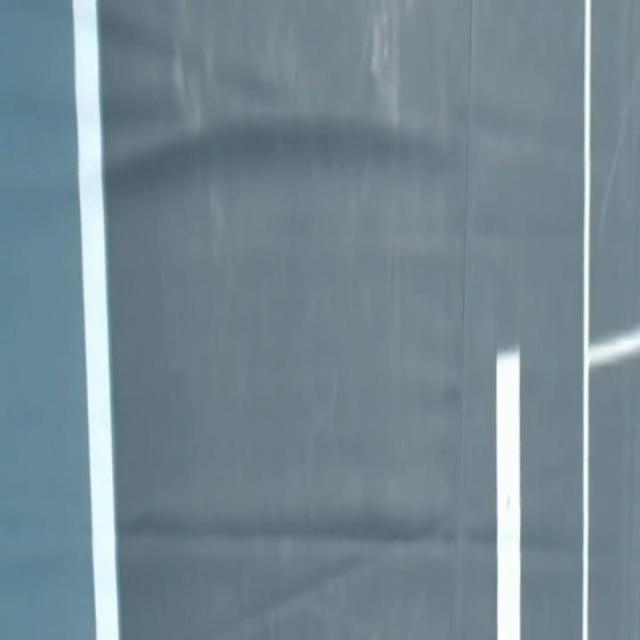center: (497, 349, 520, 639)
left: (72, 0, 119, 639)
